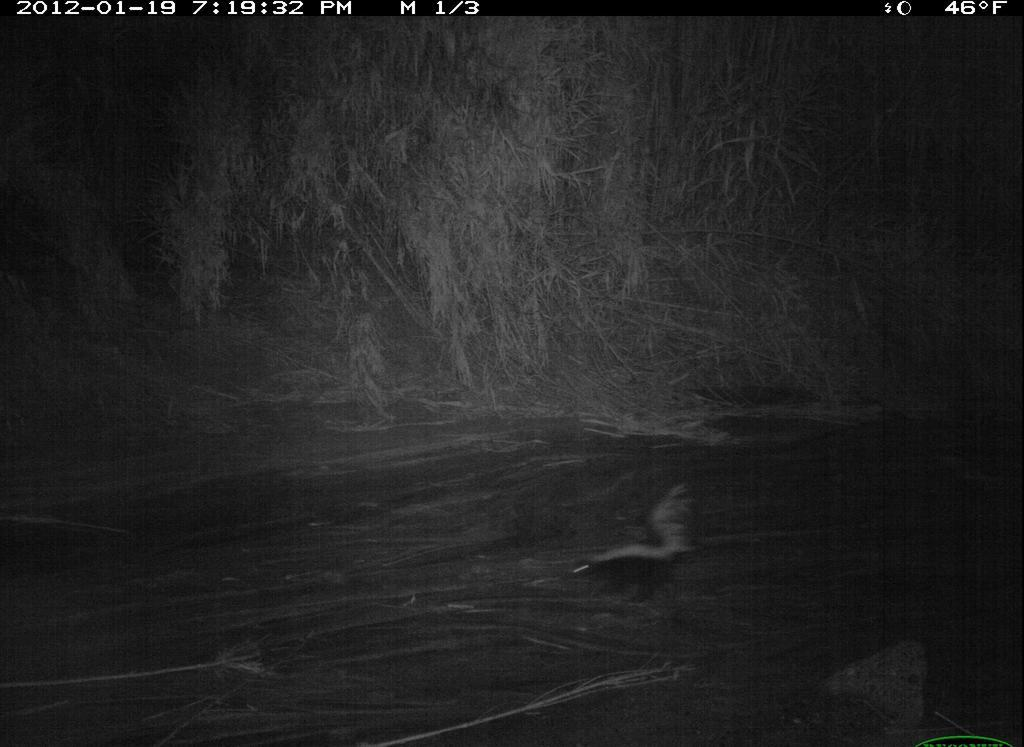skunk: (573, 486, 705, 600)
